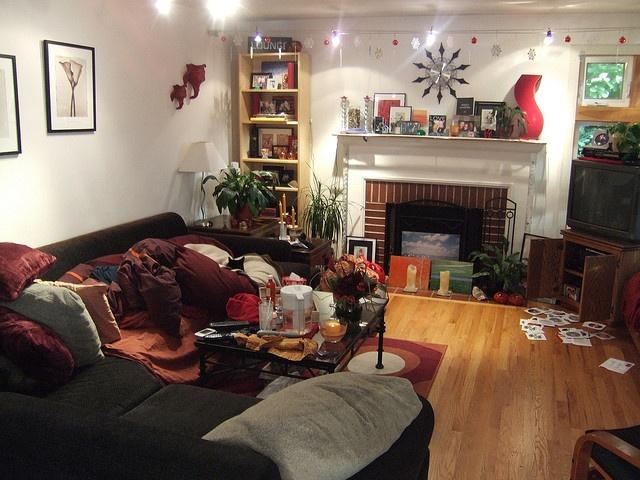Rak: (236, 50, 311, 191)
